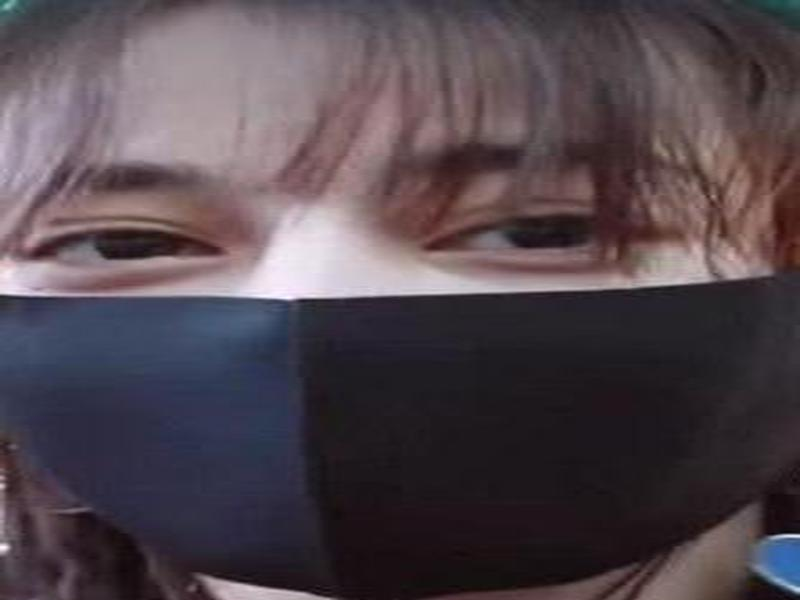with_mask: (1, 1, 797, 586)
